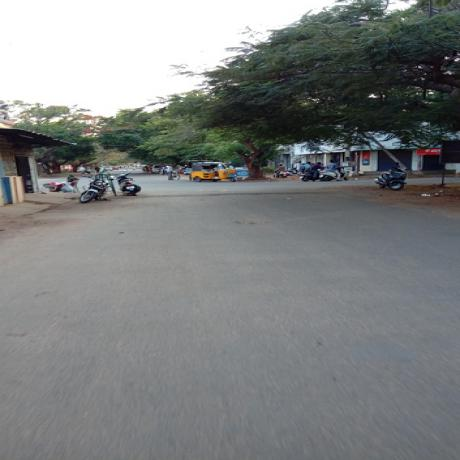Speed Bump: (143, 191, 340, 199)
